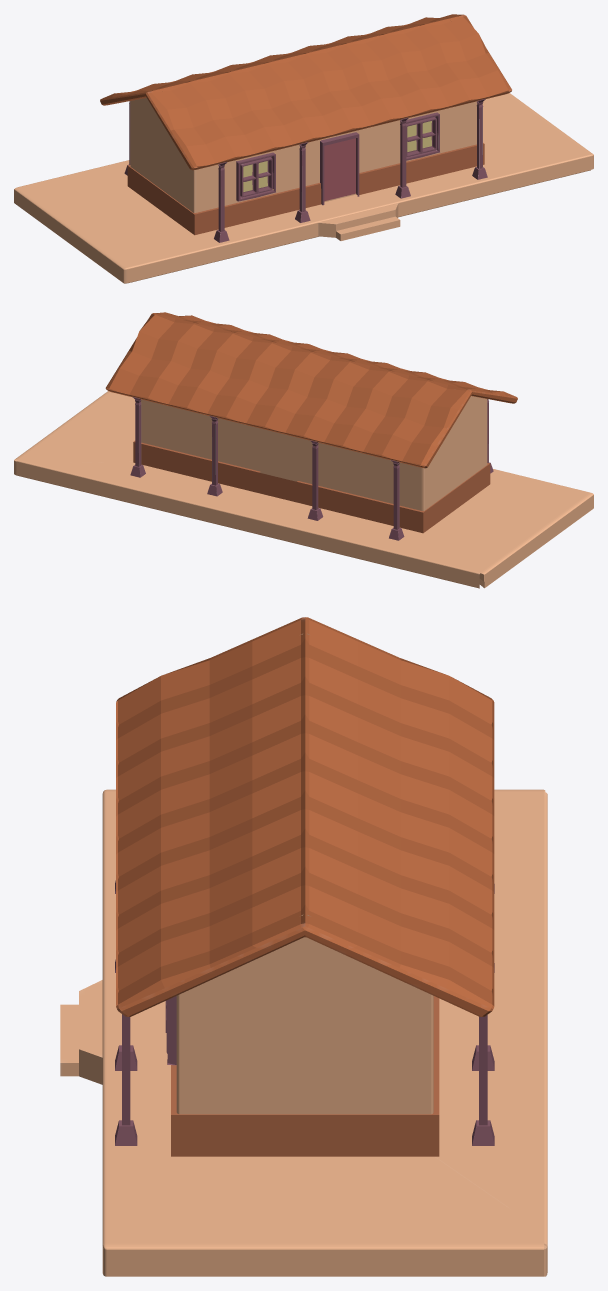
Rendered from CASA NORMAL FINAL.fbx.
The picture shows the model from 3 angles, top to bottom: view 1: azimuth 30°, elevation 25°; view 2: azimuth 150°, elevation 25°; view 3: azimuth 270°, elevation 25°; orthographic projection. The views are drawn at different scales.
Parts seen in each view (by area): view 1: casa_5, Cube; view 2: casa_5, Cube; view 3: casa_5, Cube.
Part boxes in pixels (x1,y1,x2,y2): casa_5: [14, 14, 593, 283]; Cube: [127, 143, 484, 235]; casa_5: [14, 312, 593, 588]; Cube: [133, 441, 490, 533]; casa_5: [60, 617, 547, 1276]; Cube: [171, 996, 439, 1156].
Bounding box in the file's own units: 3380 × 944 × 1515.
2 materials, 1 textured.
